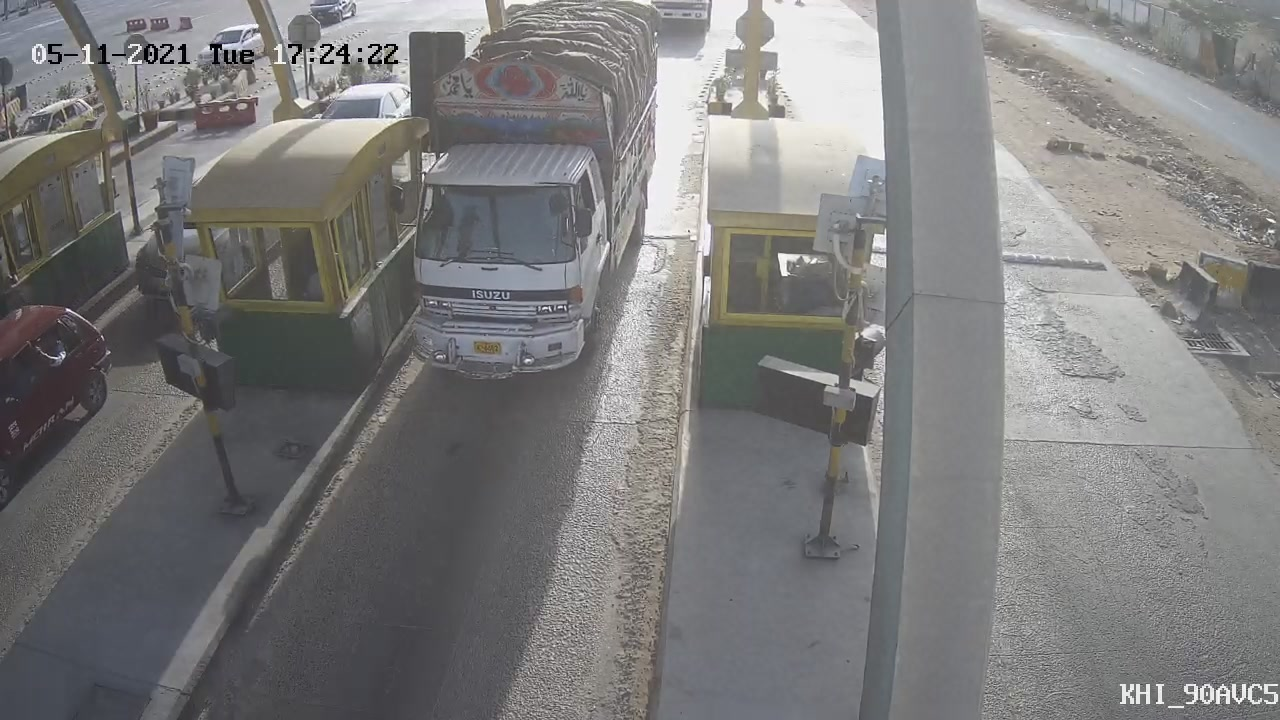F5: (361, 4, 686, 399)
